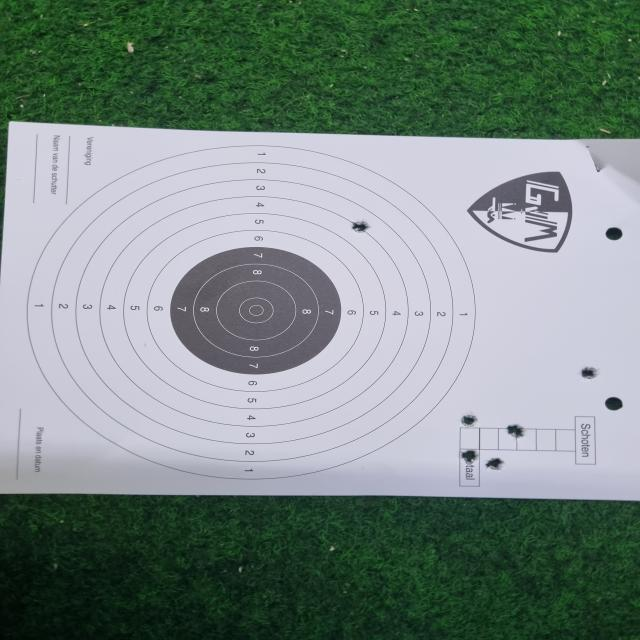0: (507, 424, 526, 438), (486, 457, 505, 470), (460, 415, 478, 428), (580, 366, 598, 379), (462, 450, 478, 462)
4: (351, 221, 372, 233)
Target: (26, 145, 477, 480)
black_contour: (170, 246, 342, 374)
